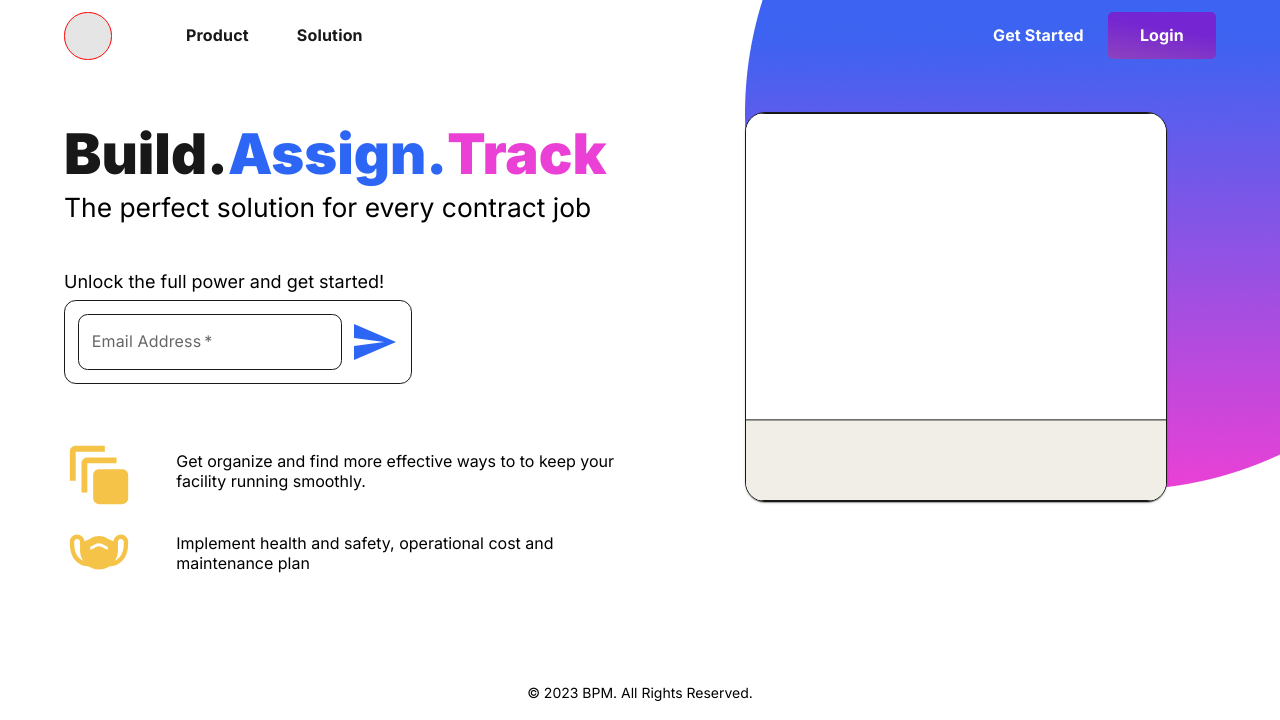
Test case: Homepage spec › Contractor Tab
Click the button with test id "login-link" at x=1162, y=36, box [1108, 12, 1216, 59]
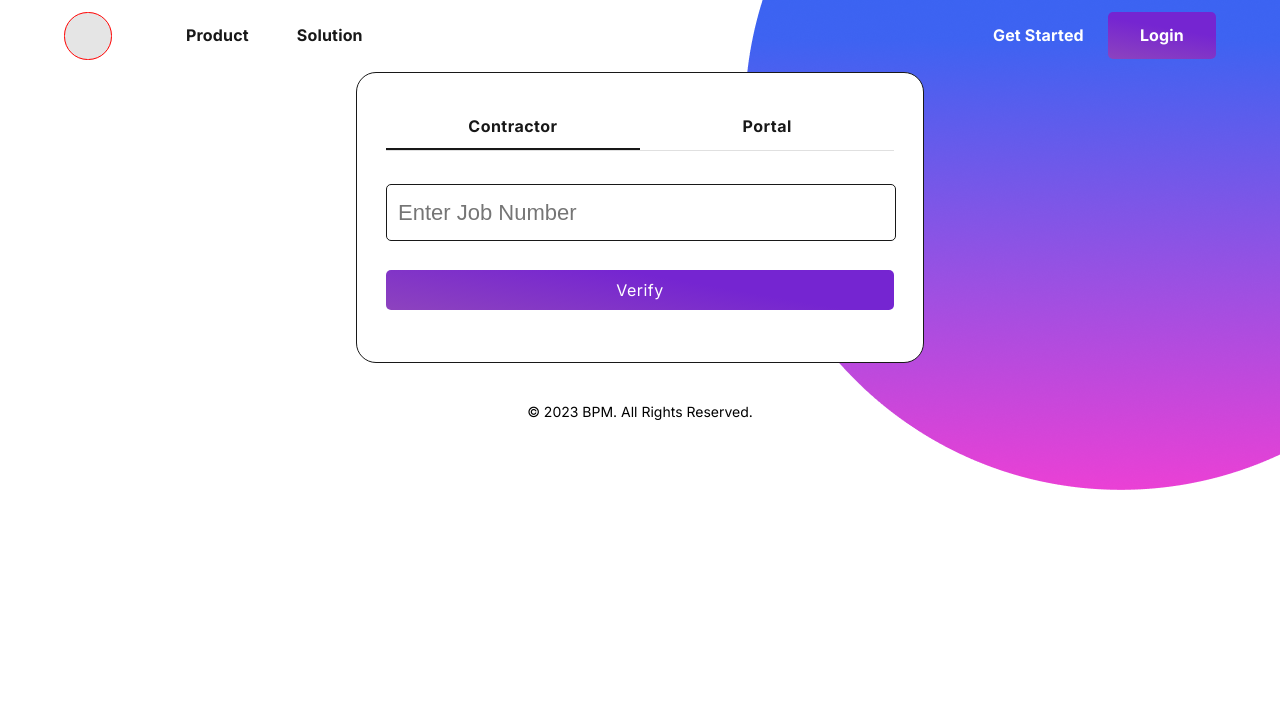
Click the button "Verify" at x=640, y=290, box [386, 270, 894, 310]
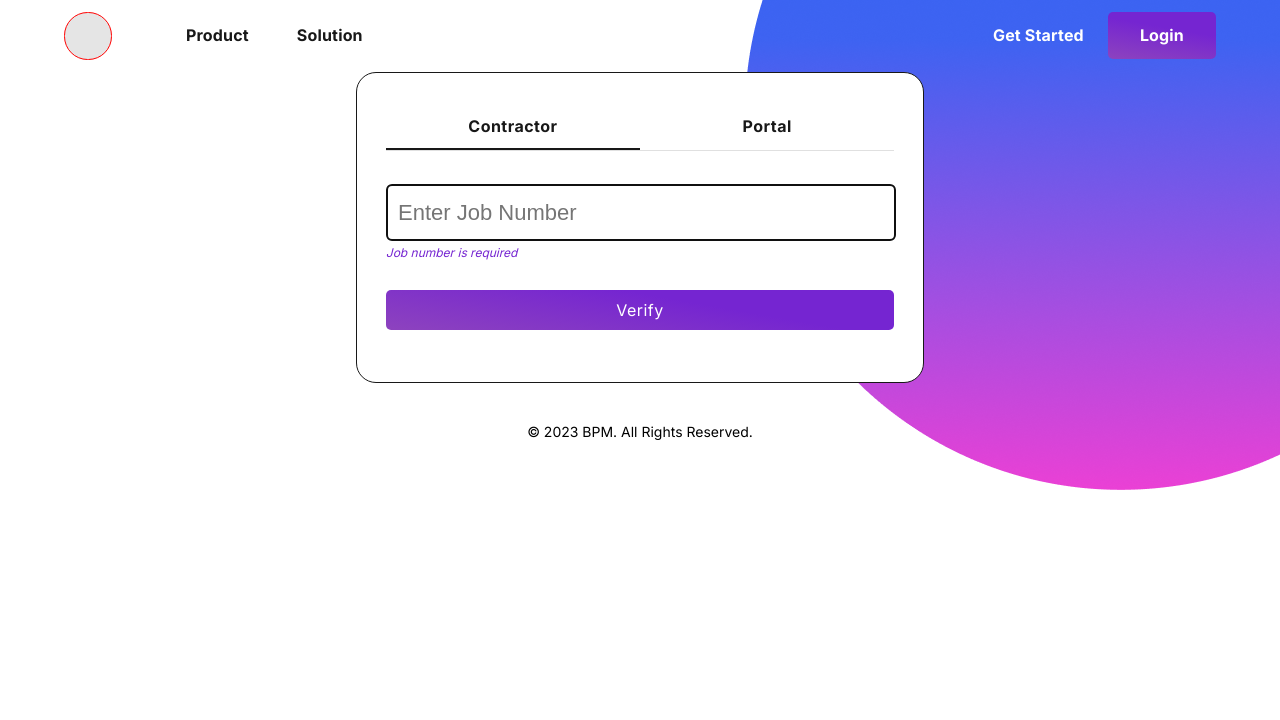
Check: the text "Job number is required" is shown, box [386, 245, 518, 260]
